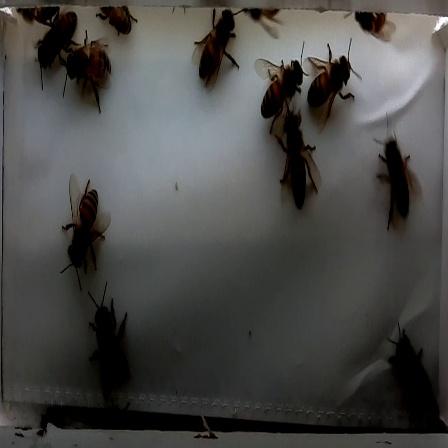bee: (50, 168, 115, 286), (72, 289, 141, 392), (368, 124, 423, 237), (379, 326, 440, 427), (270, 112, 328, 216), (302, 36, 365, 131), (52, 34, 125, 112), (189, 6, 248, 95), (248, 45, 309, 124), (23, 8, 87, 79)
